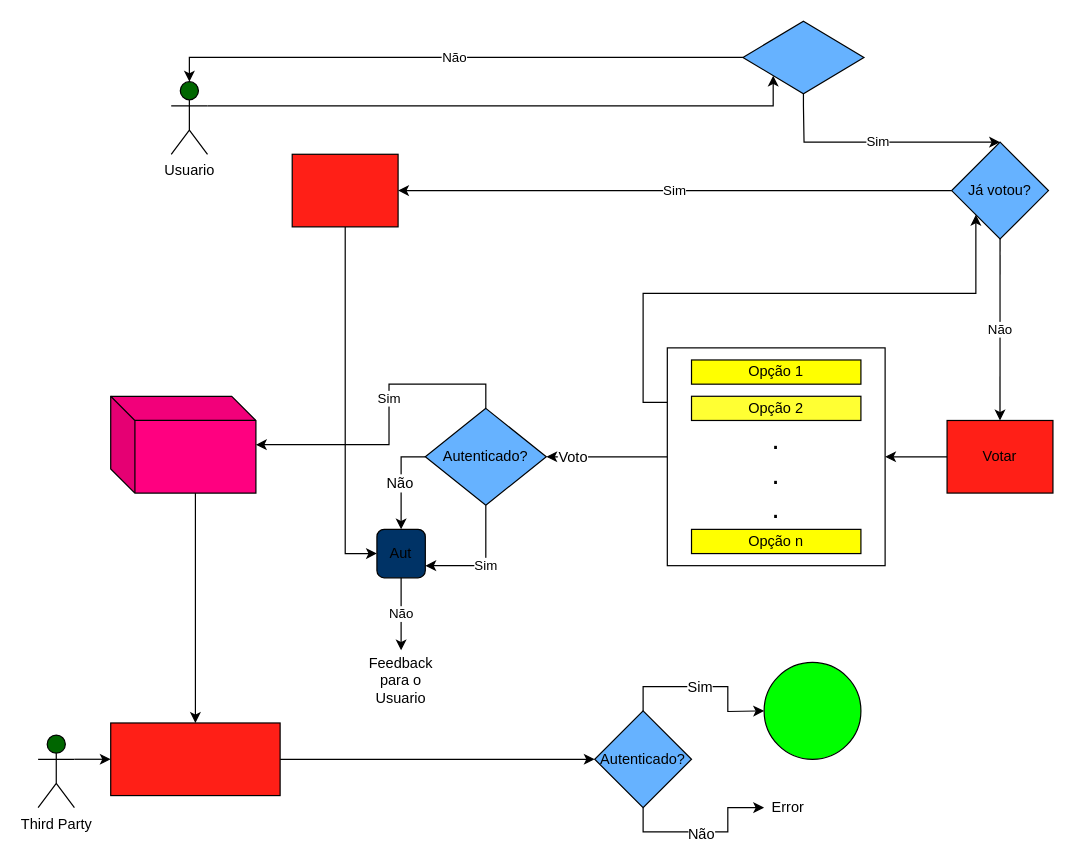
The diagram is 1074 pixels wide and 863 high, and some of its shapes have lost their labels. The shapes that lost their labels are listed below. From the top down, each one's centre as x and y in pixels, then its label:
[803,57]: Registrado?
[344,190]: Verificar Voto
[183,444]: Tabulação
[812,710]: Tabulação Anunciada
[195,759]: Verificar Tabulação
